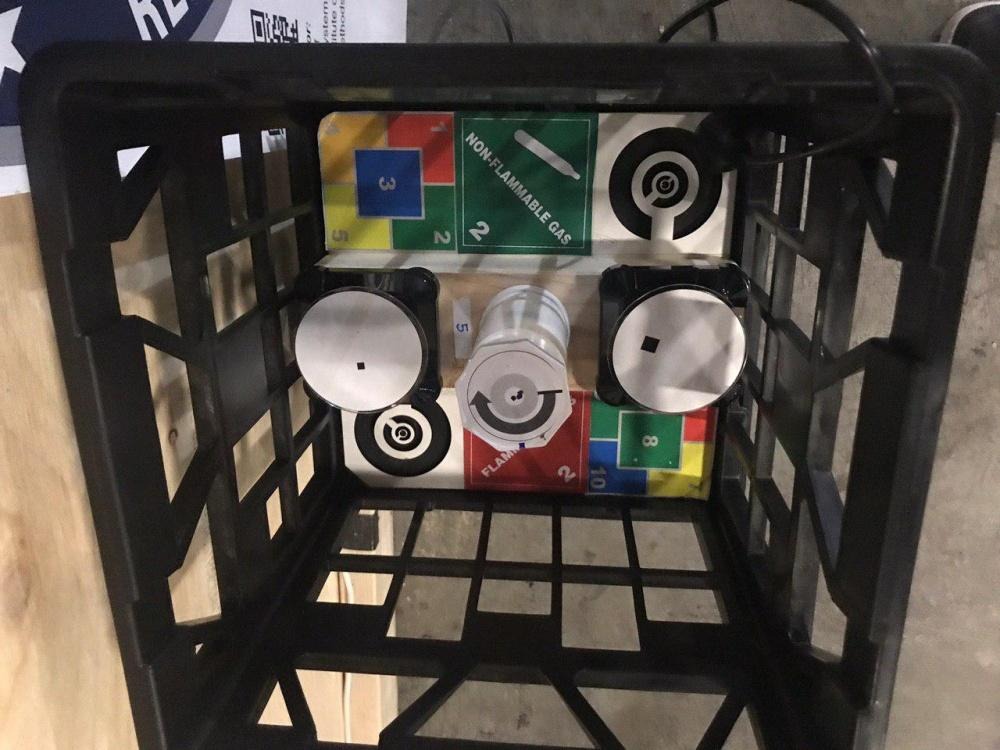flammable: (466, 396, 584, 489)
non-flammable-gas: (458, 115, 590, 252)
